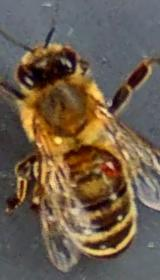varroa_mite: (82, 150, 128, 189)
